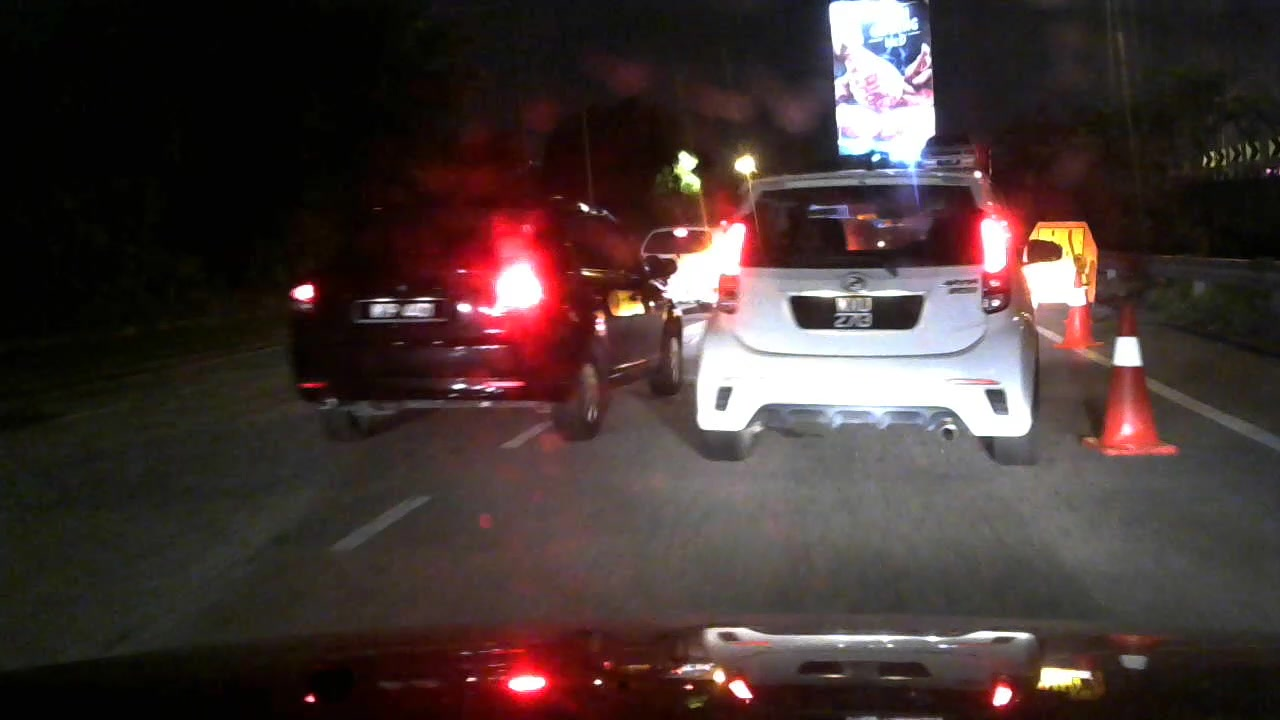Car: (699, 164, 1054, 472), (296, 182, 688, 434)
